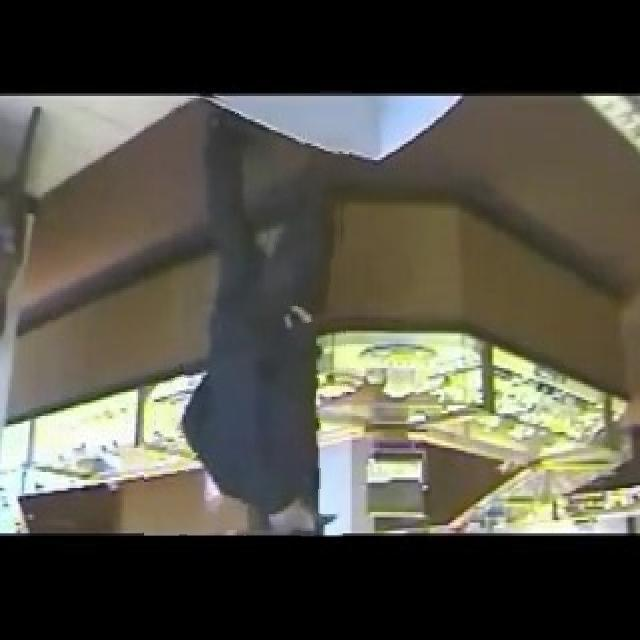Normal: (144, 96, 348, 536)
